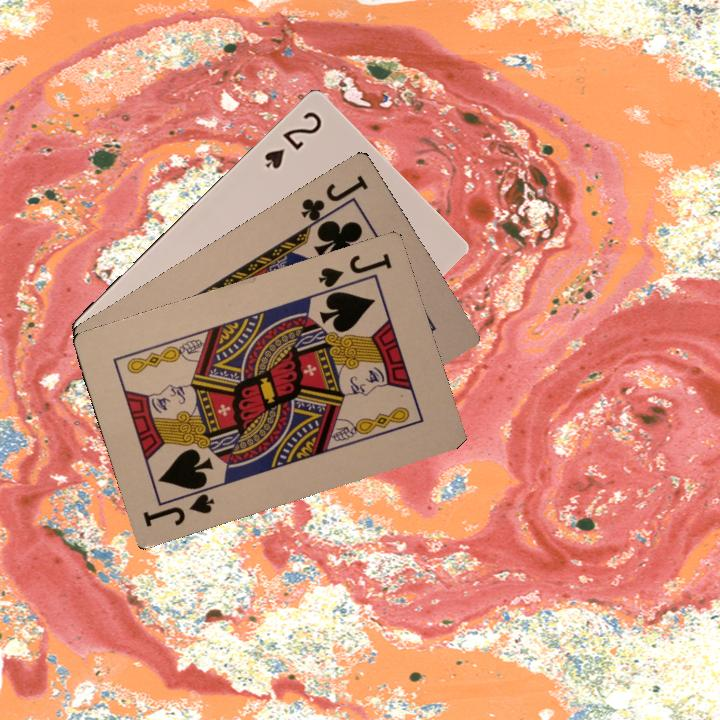2s: (260, 107, 324, 172)
Jc: (296, 171, 371, 232)
Js: (138, 482, 217, 532), (315, 249, 395, 297)
